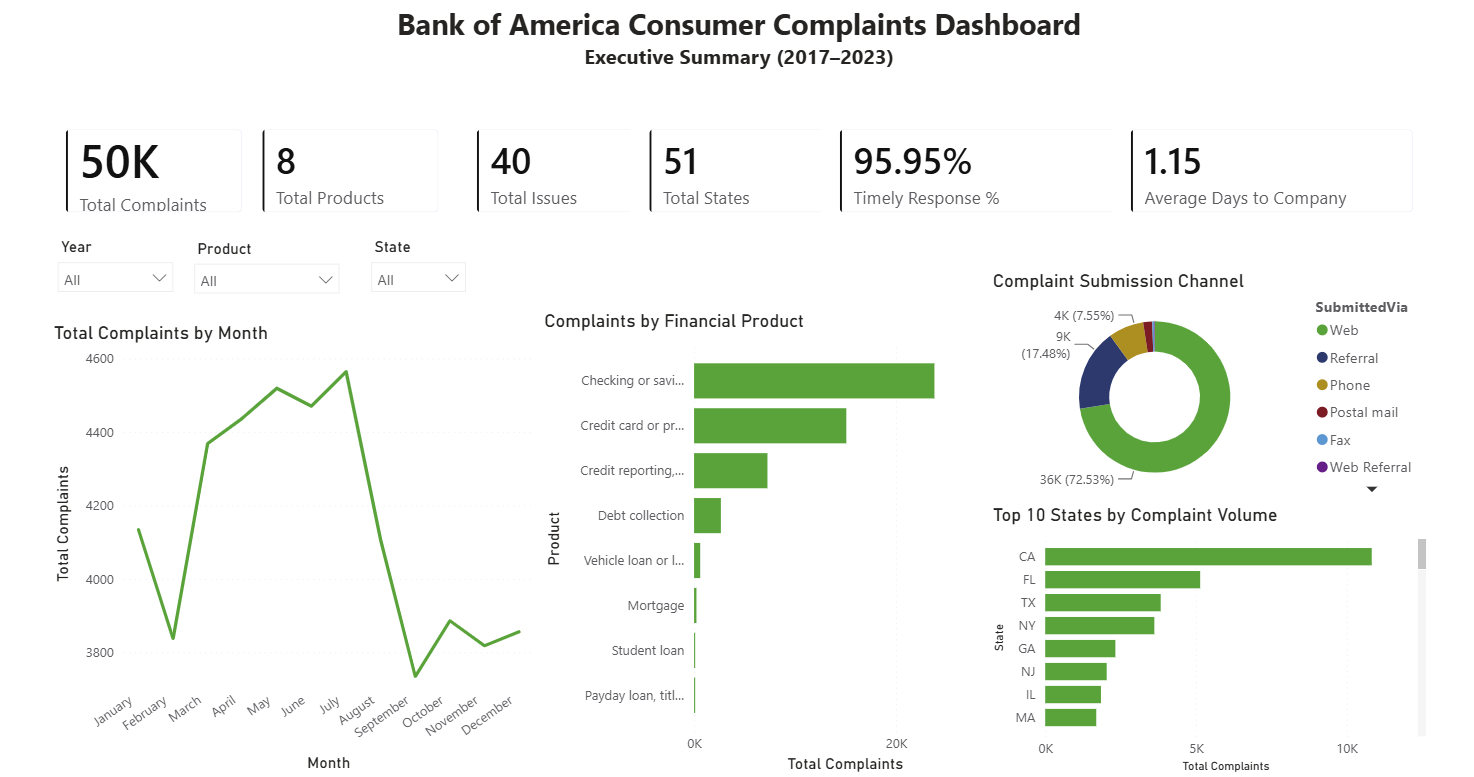

This screenshot's page, from the dashboard's own definition file:
{"tool":"powerbi","page":{"name":"Executive Summary","canvas":[1280,720],"ordinal":0},"visuals":[{"type":"textbox","box":[0,0,1279.5,87.6],"z":0},{"type":"cardVisual","fields":{"Data":["Consumer Complaints.Total Complaints"]},"box":[0,103.8,197.8,111.9],"z":1},{"type":"cardVisual","fields":{"Data":["Consumer Complaints.Total Products"]},"box":[181.6,103.8,197.8,111.9],"z":2},{"type":"cardVisual","fields":{"Data":["Consumer Complaints.Total Issues"]},"box":[379.5,103.8,197.8,111.9],"z":3},{"type":"cardVisual","fields":{"Data":["Consumer Complaints.Total States"]},"box":[540,103.8,201.1,111.9],"z":4},{"type":"cardVisual","fields":{"Data":["Consumer Complaints.Timely Response %"]},"box":[715.1,103.8,308.1,111.9],"z":5},{"type":"cardVisual","fields":{"Data":["Consumer Complaints.Average Days to Company"]},"box":[984.3,103.8,295.1,111.9],"z":6},{"type":"slicer","fields":{"Values":["Date.Year"]},"box":[0,215.7,126.5,84.3],"z":7},{"type":"slicer","fields":{"Values":["Consumer Complaints.Product"]},"box":[126.5,217.3,154.1,82.7],"z":8},{"type":"slicer","fields":{"Values":["Consumer Complaints.State"]},"box":[290.3,215.7,107,84.3],"z":9},{"type":"lineChart","fields":{"Category":["Date.Month"],"Y":["Consumer Complaints.Total Complaints"]},"box":[1.6,300,452.4,420],"z":10},{"type":"clusteredBarChart","title":"Complaints by Financial Product","fields":{"Y":["Consumer Complaints.Total Complaints"],"Category":["Consumer Complaints.Product"]},"box":[454.1,288.7,437.8,431.4],"z":11},{"type":"donutChart","title":"Complaint Submission Channel","fields":{"Category":["Consumer Complaints.SubmittedVia"],"Y":["Consumer Complaints.Total Complaints"]},"box":[869.2,251.4,410.3,215.7],"z":12},{"type":"clusteredBarChart","title":"Top 10 States by Complaint Volume","fields":{"Category":["Consumer Complaints.State"],"Y":["Consumer Complaints.Total Complaints"]},"box":[869.2,467,410.3,253],"z":13}]}

Visuals, with their boxes on the page's 1280x720 design canvas (x1, y1, x2, y2). These are canvas units, not pixel positions in the 1474x777 screenshot, which may show the page scaled, cropped or inside an application window:
textbox: 0,0,1280,88
cardVisual - Consumer Complaints.Total Complaints: 0,104,198,216
cardVisual - Consumer Complaints.Total Products: 182,104,379,216
cardVisual - Consumer Complaints.Total Issues: 380,104,577,216
cardVisual - Consumer Complaints.Total States: 540,104,741,216
cardVisual - Consumer Complaints.Timely Response %: 715,104,1023,216
cardVisual - Consumer Complaints.Average Days to Company: 984,104,1279,216
slicer - Date.Year: 0,216,126,300
slicer - Consumer Complaints.Product: 126,217,281,300
slicer - Consumer Complaints.State: 290,216,397,300
lineChart - Date.Month x Consumer Complaints.Total Complaints: 2,300,454,720
"Complaints by Financial Product" clusteredBarChart: 454,289,892,720
"Complaint Submission Channel" donutChart: 869,251,1280,467
"Top 10 States by Complaint Volume" clusteredBarChart: 869,467,1280,720
